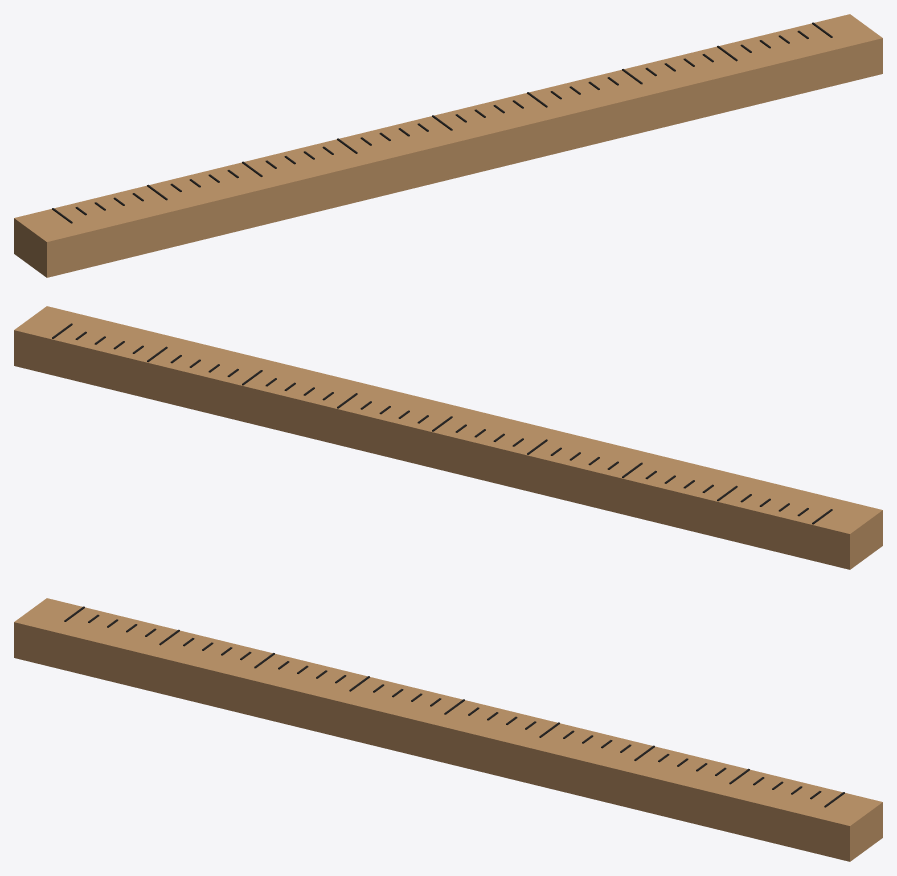
File: tailors-ruler.glb
3 views of the same model, one above another, from view 1: azimuth 30°, elevation 25°; view 2: azimuth 150°, elevation 25°; view 3: azimuth 330°, elevation 25° (orthographic).
Visible parts, largest first — view 1: ruler-body; view 2: ruler-body; view 3: ruler-body.
Part boxes in pixels (bbox=[...]): ruler-body: bbox=[14, 14, 882, 277]; ruler-body: bbox=[14, 306, 882, 569]; ruler-body: bbox=[14, 598, 882, 861].
Bounding box in the file's own units: 1.1 × 0.0465 × 0.075.
